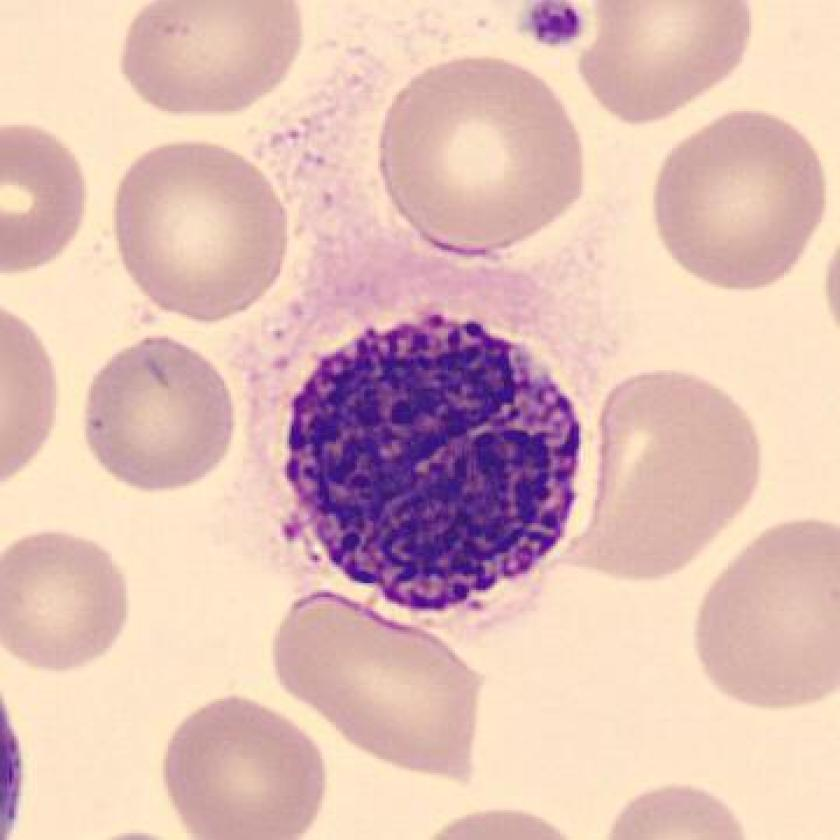basophil: (275, 302, 593, 626)
